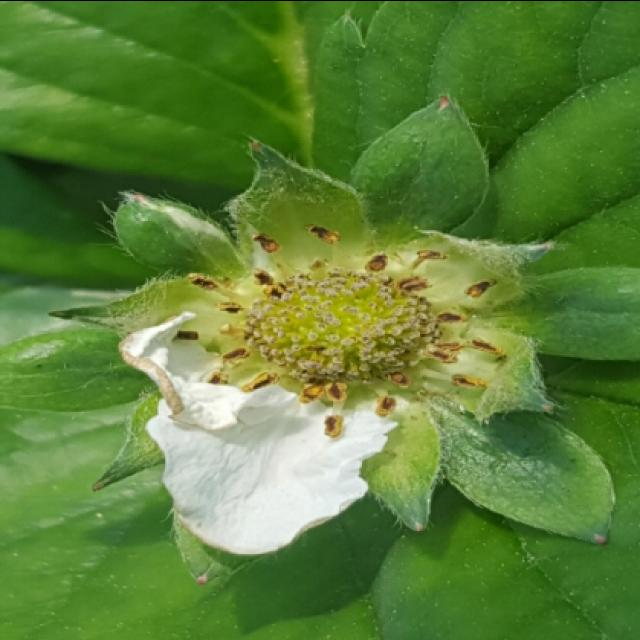Blossom Blight: (170, 214, 507, 442)
